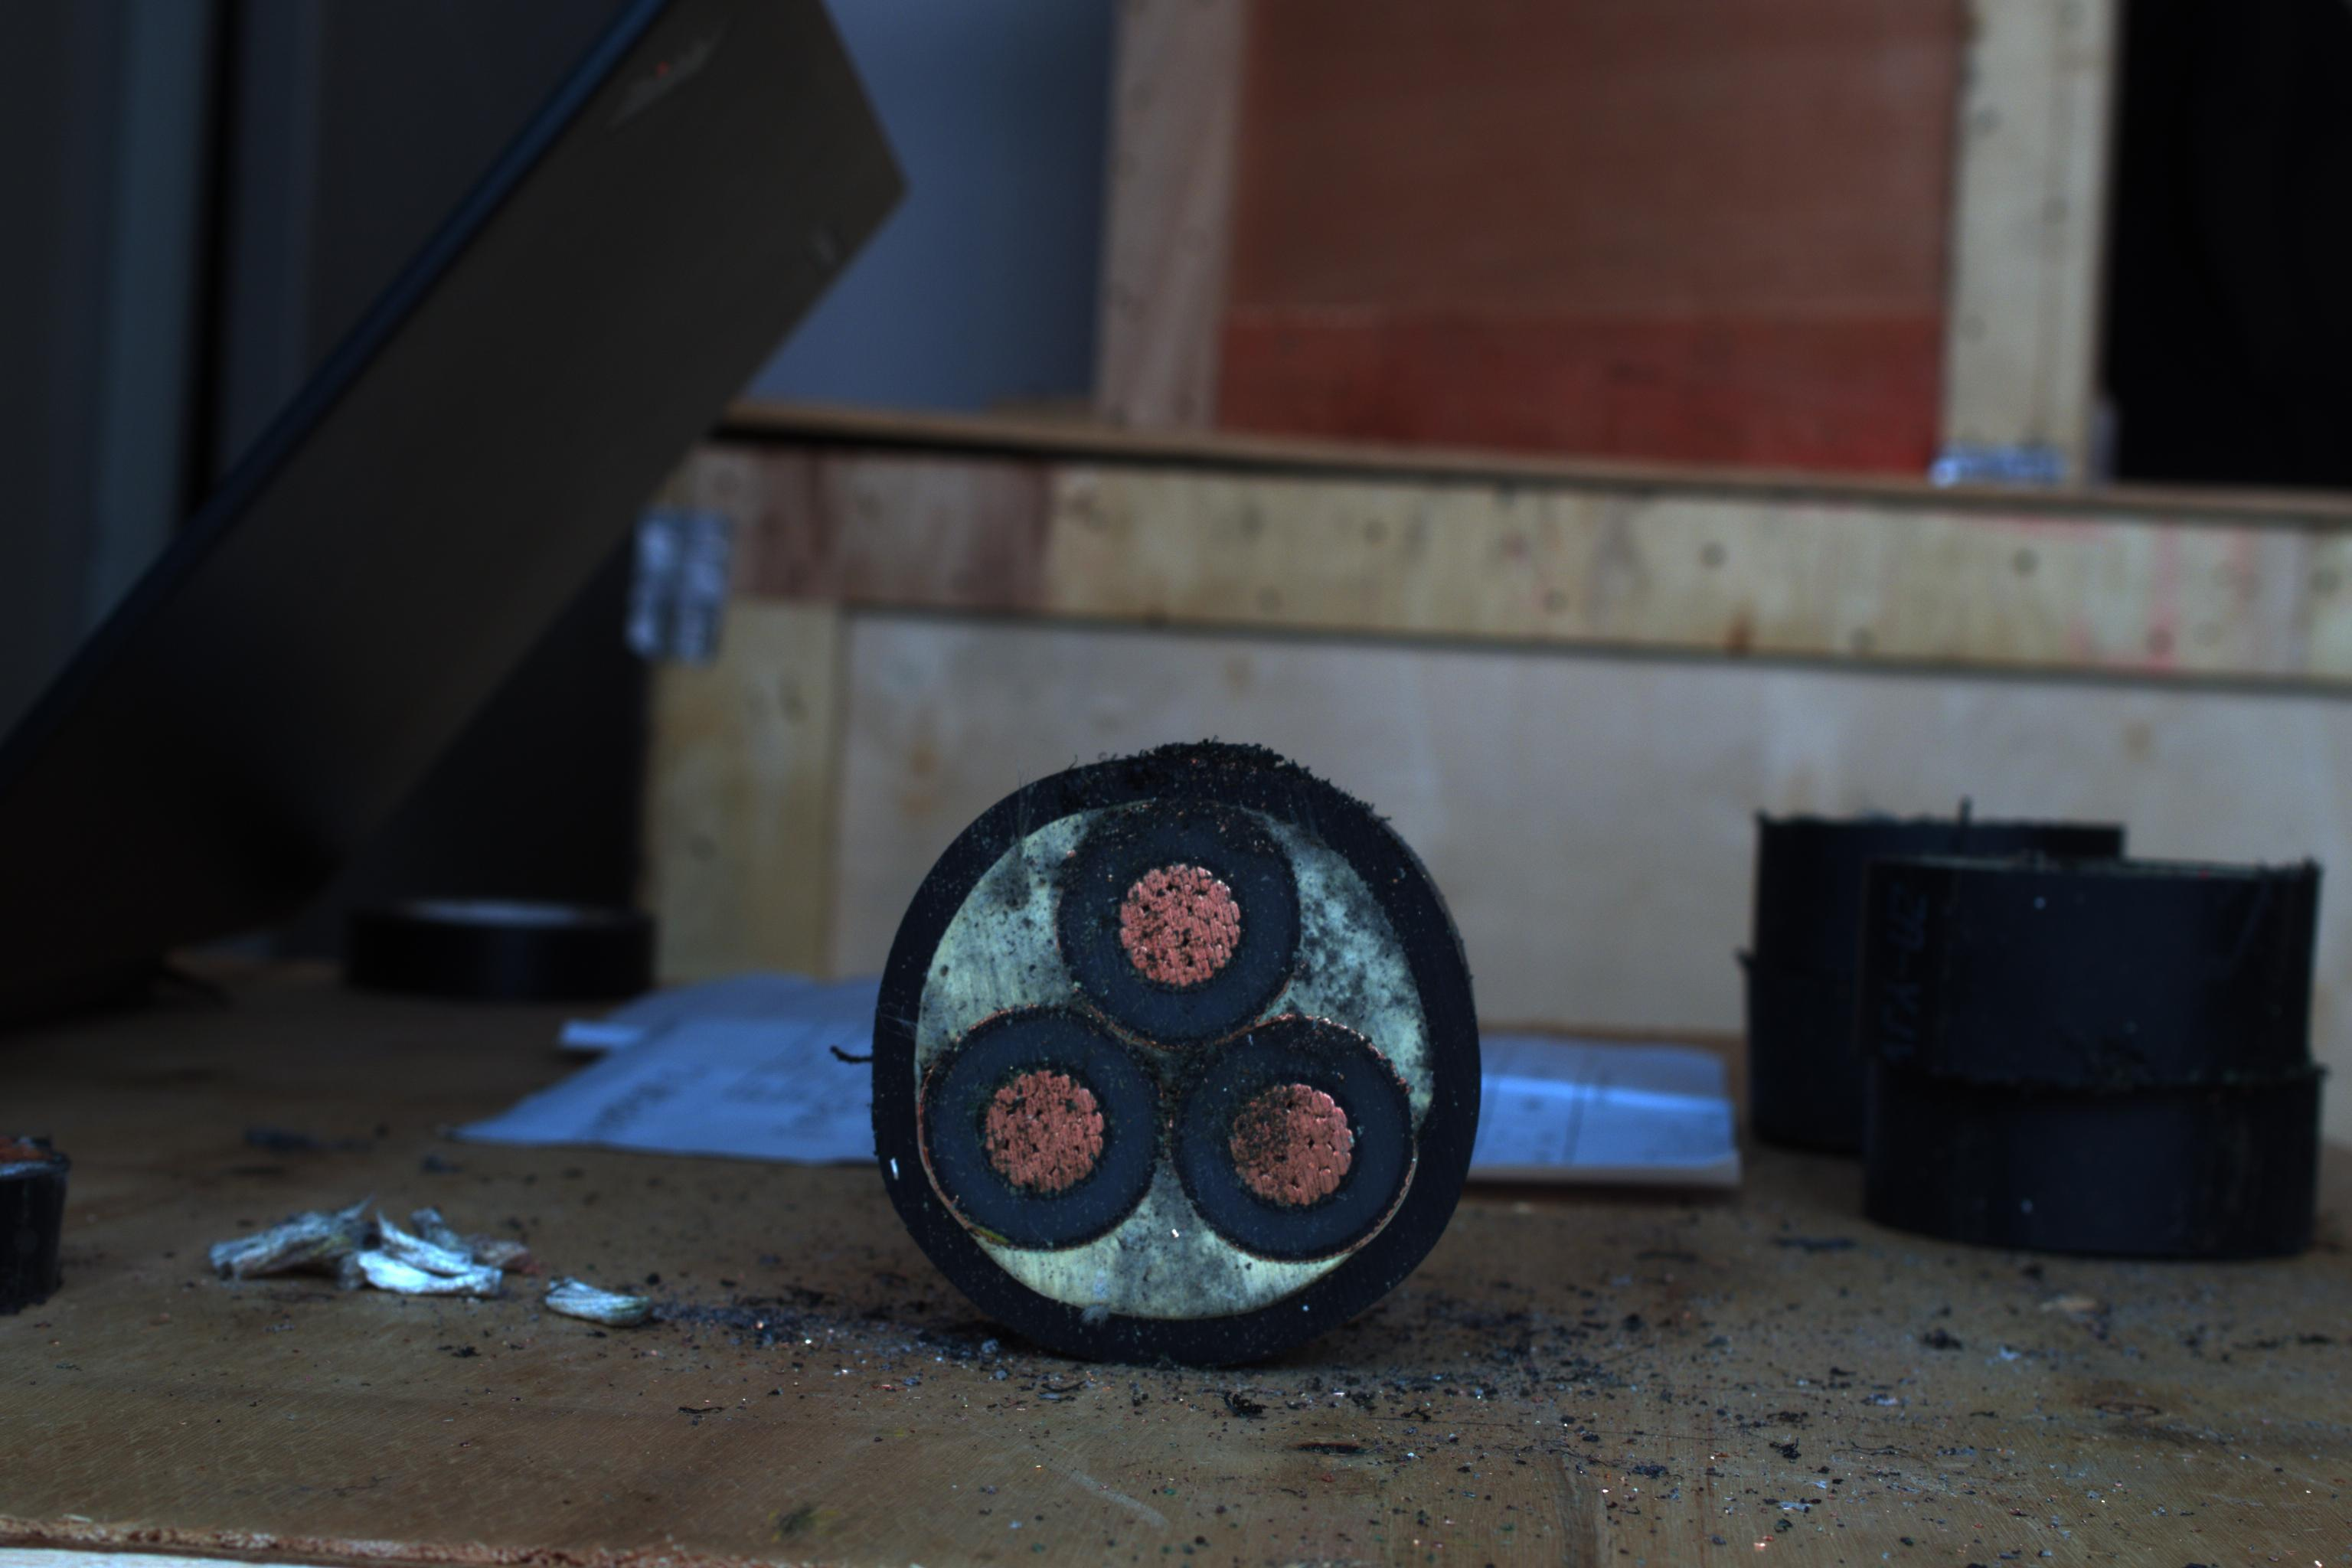ZA_YJV_8.7_10kV_3x120: (857, 740, 1449, 1349)
